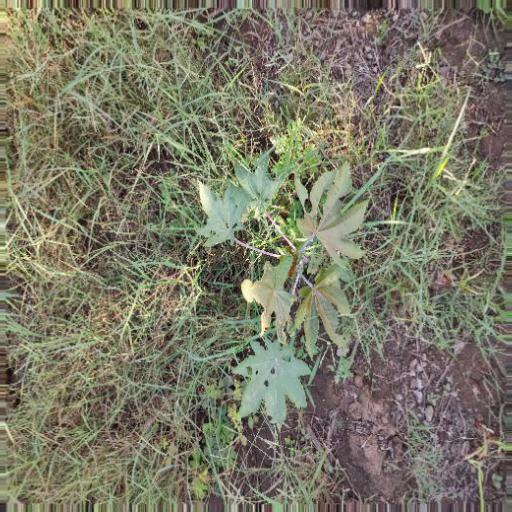weed: (183, 36, 415, 436)
